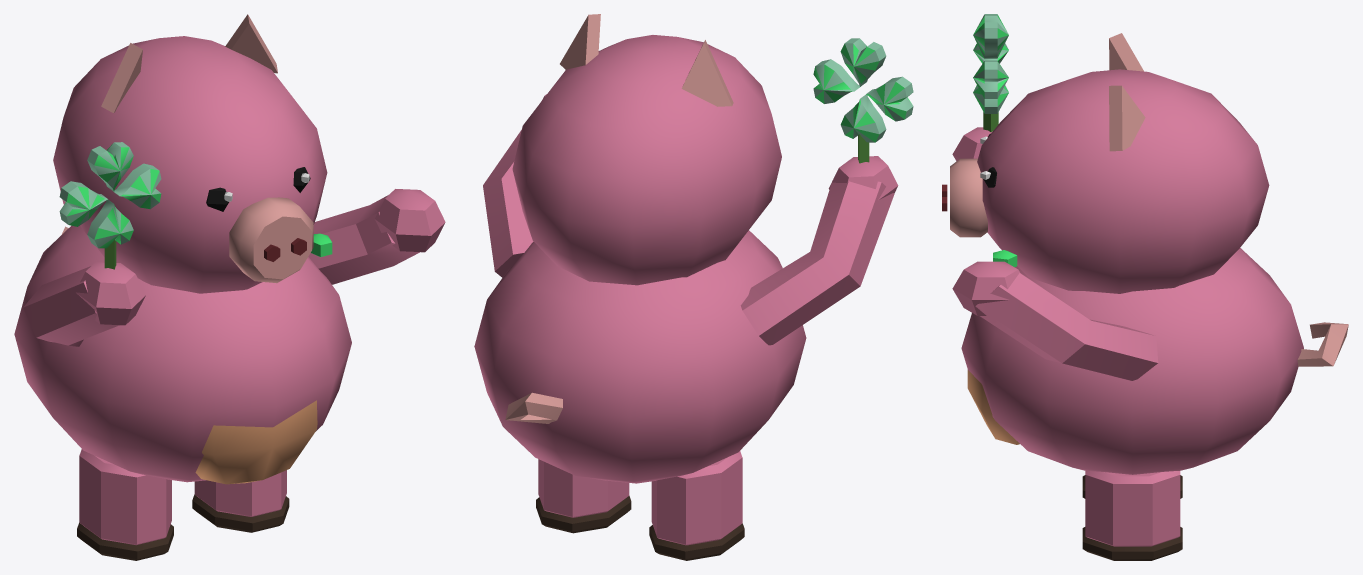
The model's file is 173_cochon_chanceux.fbx.
3 views of the same model, side by side, from view 1: azimuth 30°, elevation 25°; view 2: azimuth 150°, elevation 25°; view 3: azimuth 270°, elevation 25° (orthographic). The views are drawn at different scales.
Parts seen in each view (by area): view 1: Corps, Accessoire; view 2: Corps, Accessoire; view 3: Corps, Accessoire.
Boxes of the visible parts, x1,y1,x2,y2 form: Corps: (14, 14, 445, 560); Accessoire: (59, 142, 332, 269); Corps: (474, 14, 898, 560); Accessoire: (813, 38, 913, 163); Corps: (942, 33, 1348, 560); Accessoire: (973, 14, 1017, 267).
Bounding box in the file's own units: 0.56 × 0.7 × 0.56.
1 material, 1 textured.
